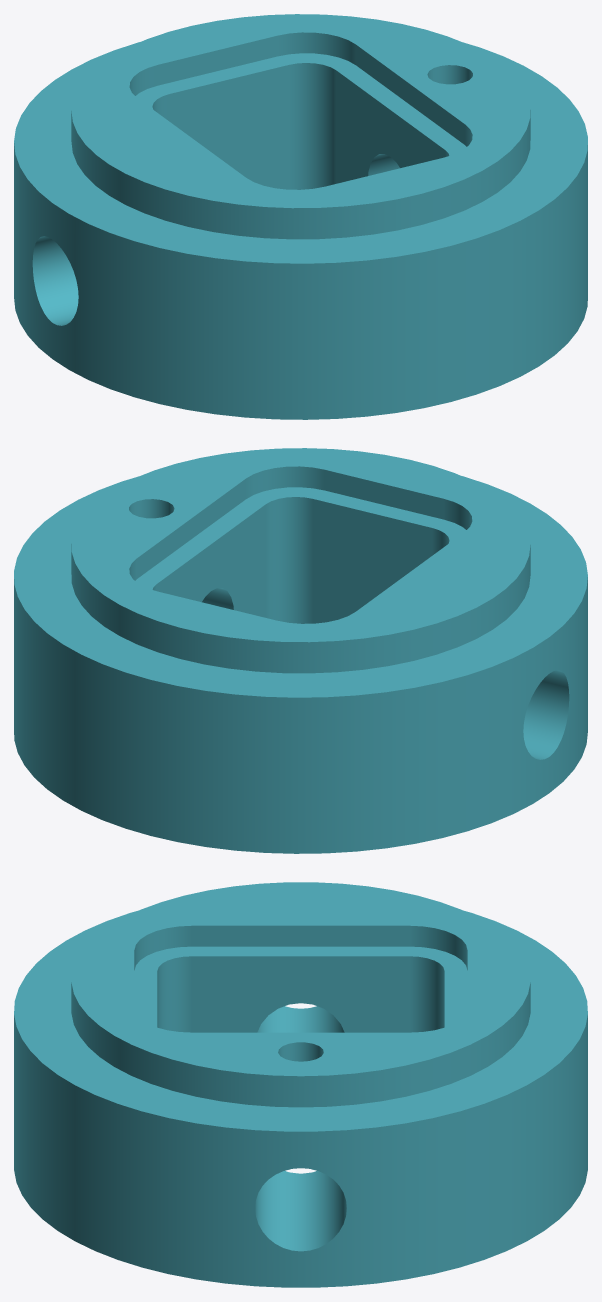
3 renders of one model, top to bottom at view 1: azimuth 30°, elevation 25°; view 2: azimuth 150°, elevation 25°; view 3: azimuth 270°, elevation 25°, orthographic.
Visible parts, largest first — view 1: Solid1; view 2: Solid1; view 3: Solid1.
Part boxes in pixels (bbox=[...]): Solid1: bbox=[14, 14, 587, 419]; Solid1: bbox=[14, 448, 587, 853]; Solid1: bbox=[14, 882, 587, 1287].
Size of the model in its own units: 0.05 by 0.018 by 0.05.
